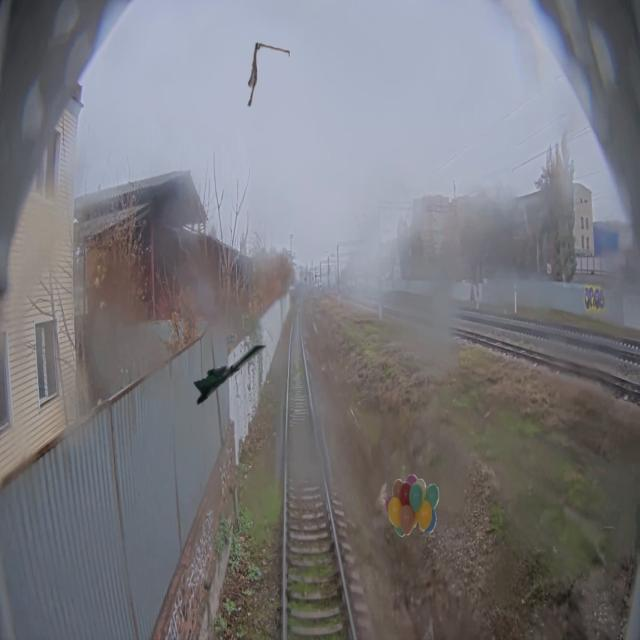balloon: (385, 473, 439, 537)
floating object: (192, 342, 269, 406), (246, 42, 291, 106)
